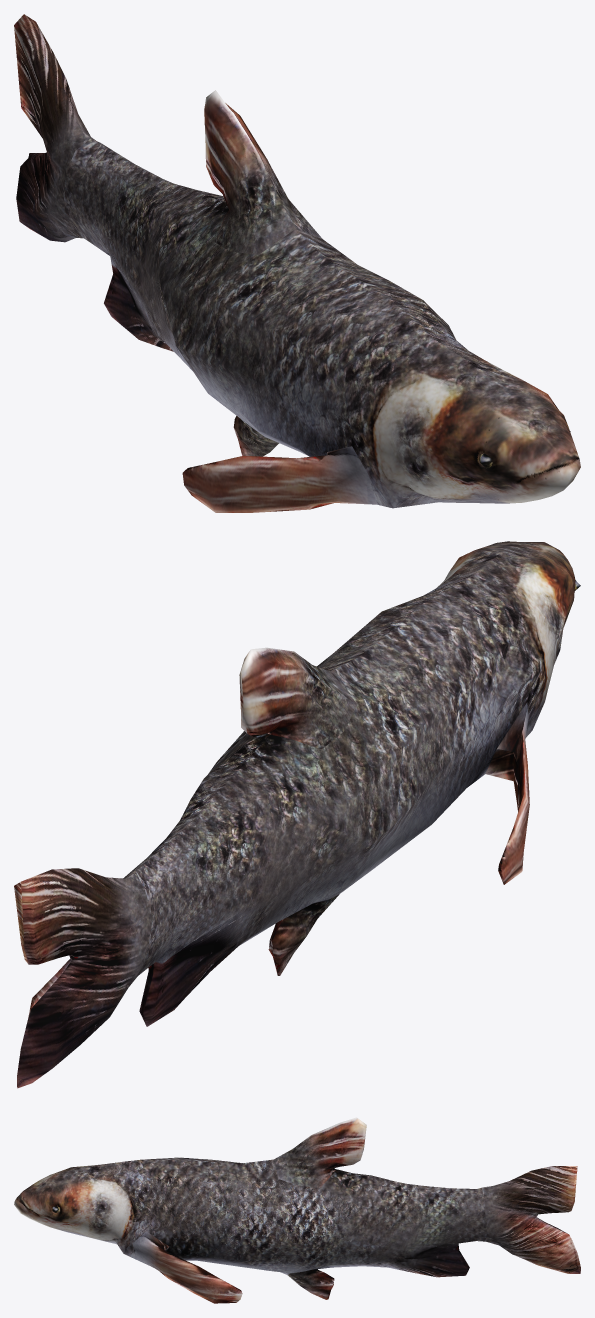
Rendered from pescadorreax2.gltf.
3 views of the same model, one above another, from view 1: azimuth 30°, elevation 25°; view 2: azimuth 150°, elevation 25°; view 3: azimuth 270°, elevation 25° (orthographic). The views are drawn at different scales.
Parts seen in each view (by area): view 1: Object_7; view 2: Object_7; view 3: Object_7.
Part boxes in pixels (x1,y1,x2,y2): Object_7: (14,14,580,512); Object_7: (14,541,580,1088); Object_7: (14,1117,580,1303).
Size of the model in its own units: 160 by 186 by 524.
1 material, 1 textured.
